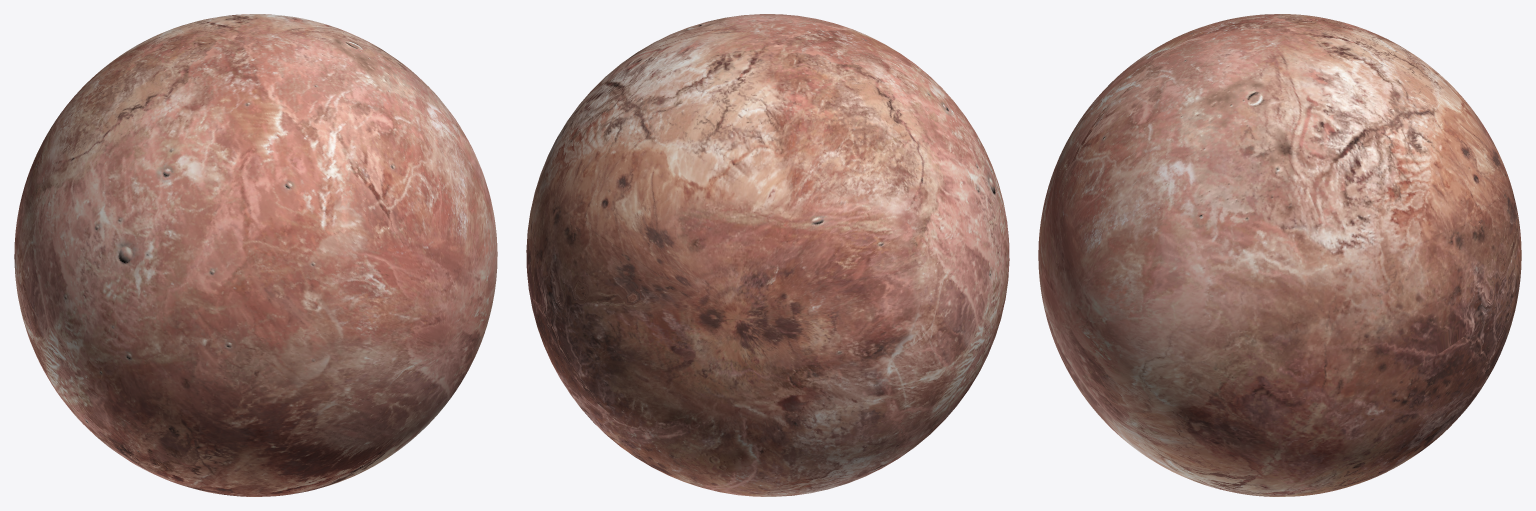
Rendered from exo_TRAPPIST1e.glb.
The picture shows the model from 3 angles, left to right: view 1: azimuth 30°, elevation 25°; view 2: azimuth 150°, elevation 25°; view 3: azimuth 270°, elevation 25°; orthographic projection.
Visible parts, largest first — view 1: surface; view 2: surface; view 3: surface.
Boxes of the visible parts, box(x1,y1,x2,y2) form: surface: box(14, 14, 497, 496); surface: box(526, 14, 1009, 496); surface: box(1038, 14, 1521, 496).
Bounding box in the file's own units: 4 × 4 × 4.
Materials: 1 (1 with a texture image).
